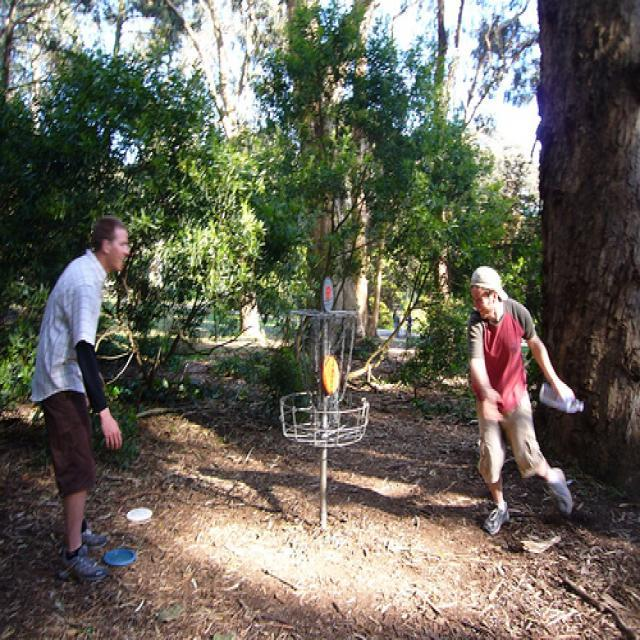non-dog: (29, 217, 135, 583), (464, 267, 584, 536)
